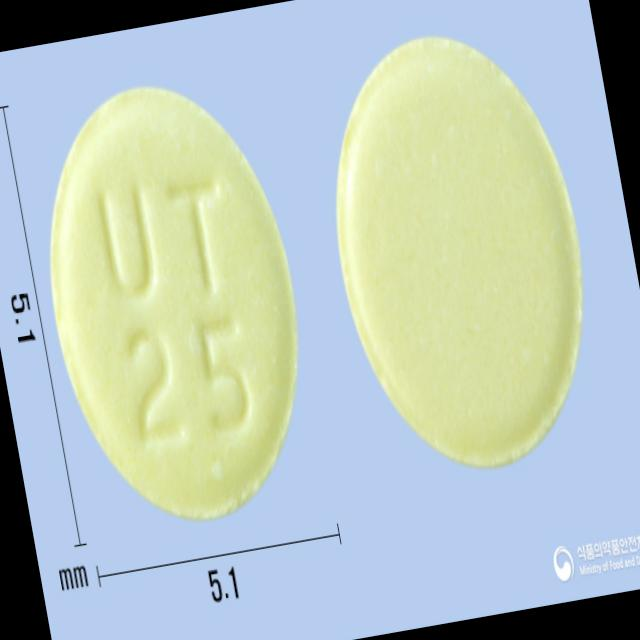Azaprine -25mg: (13, 61, 336, 546)
